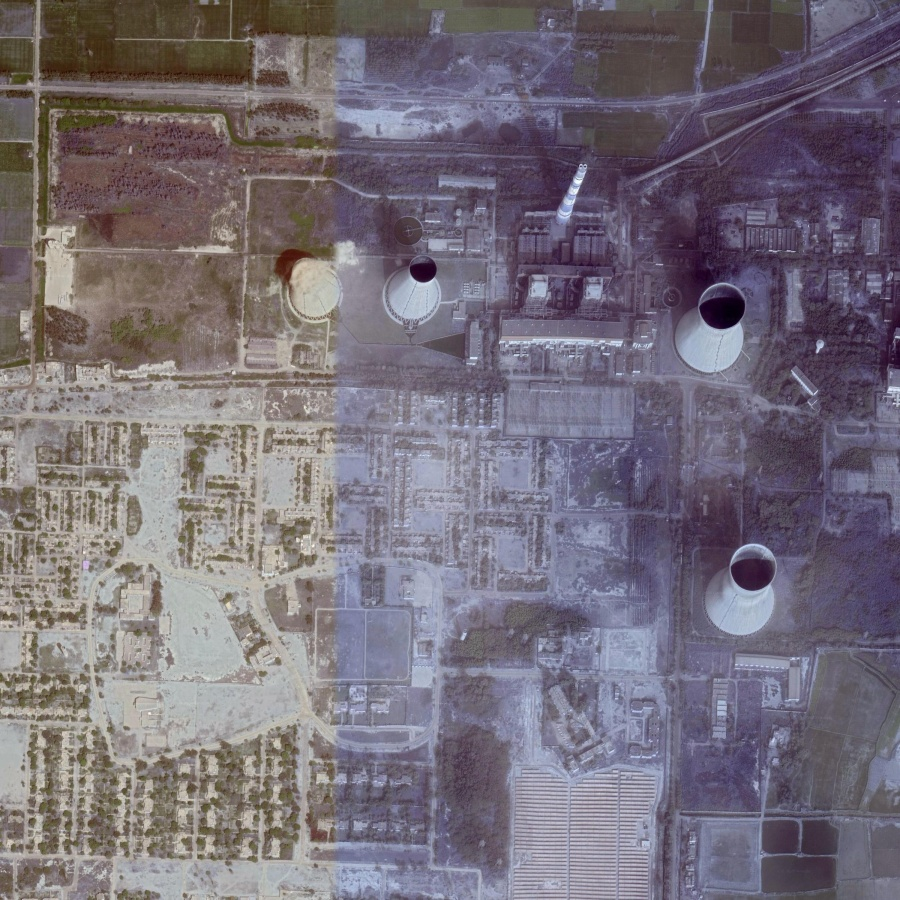PowerPlant: (278, 86, 754, 382)
